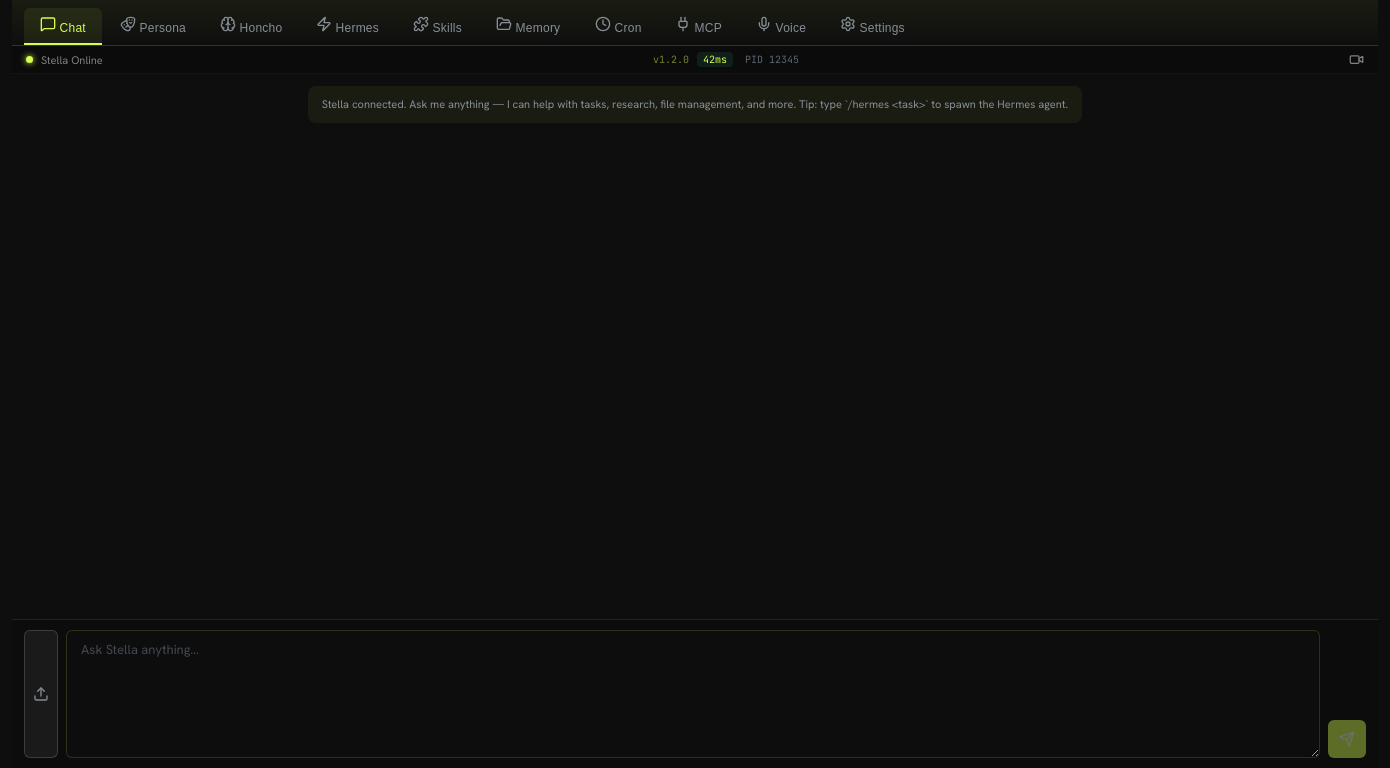
Test: StellaAgent › switches to Settings tab and shows provider config
The width and height of the screenshot is (1390, 768).
Click the button "Settings": (873, 26) [824,8,921,45]
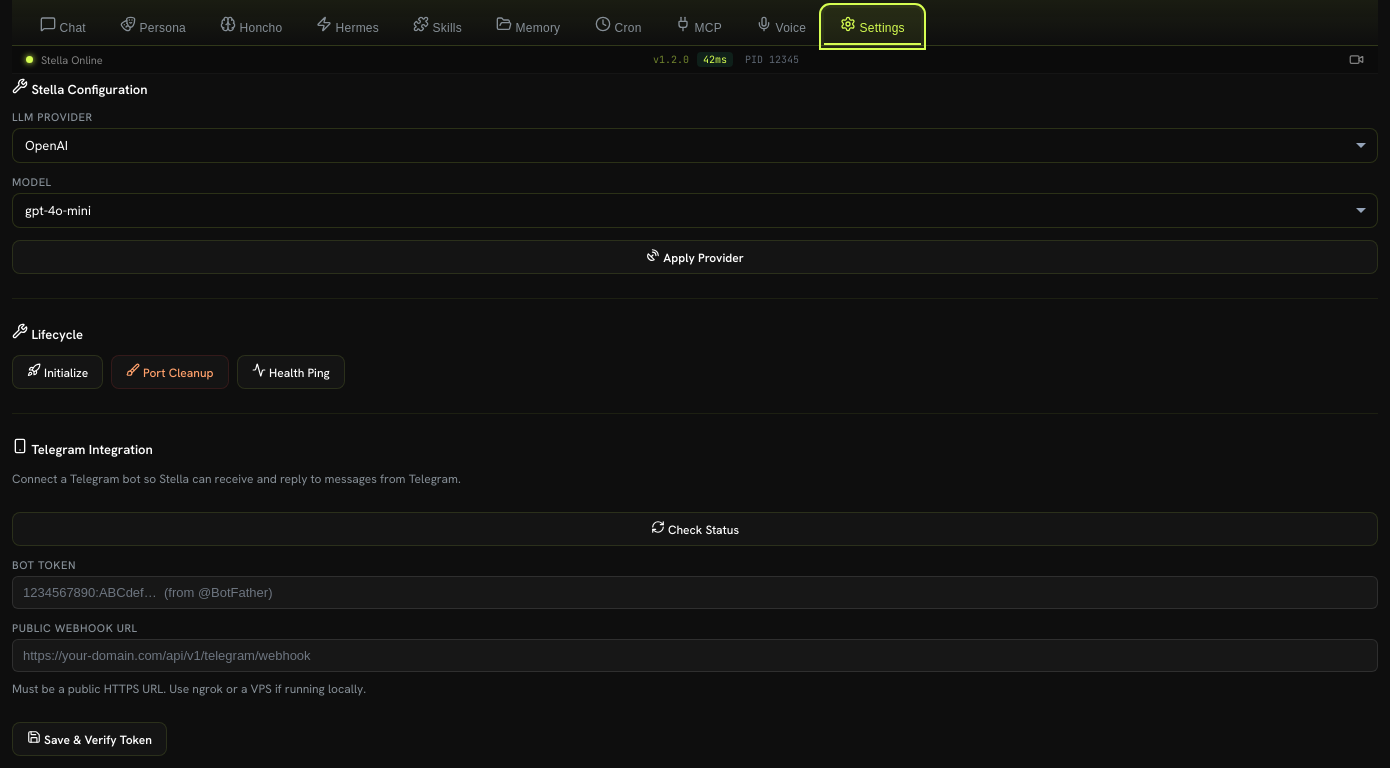
Expected: the heading "Stella Configuration" is shown, [12,78,148,98]
Expected: the text "LLM Provider" is shown, [12,110,93,124]
